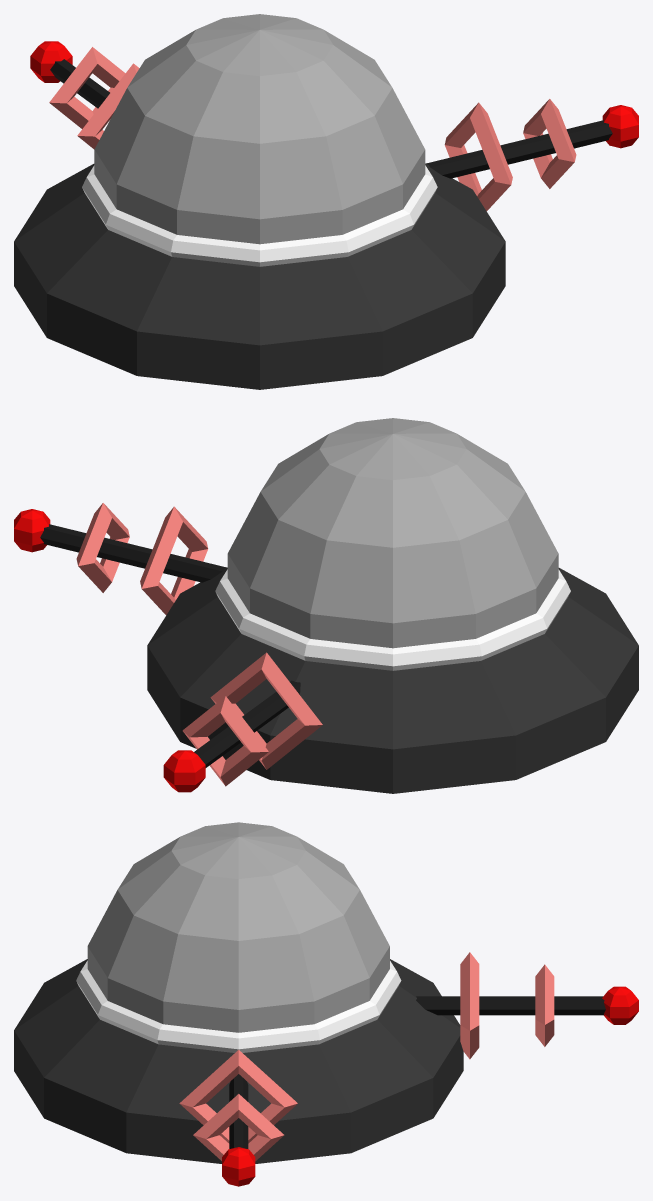
File: alien_ship6.fbx
3 renders of one model, top to bottom at view 1: azimuth 30°, elevation 25°; view 2: azimuth 150°, elevation 25°; view 3: azimuth 270°, elevation 25°, orthographic. The views are drawn at different scales.
Parts seen in each view (by area): view 1: merge4; view 2: merge4; view 3: merge4.
Boxes of the visible parts, x1=… form: merge4: x1=14, y1=14, x2=638, y2=389; merge4: x1=14, y1=418, x2=638, y2=793; merge4: x1=14, y1=822, x2=638, y2=1186.
Bounding box in the file's own units: 2.78 × 1.15 × 2.78.
